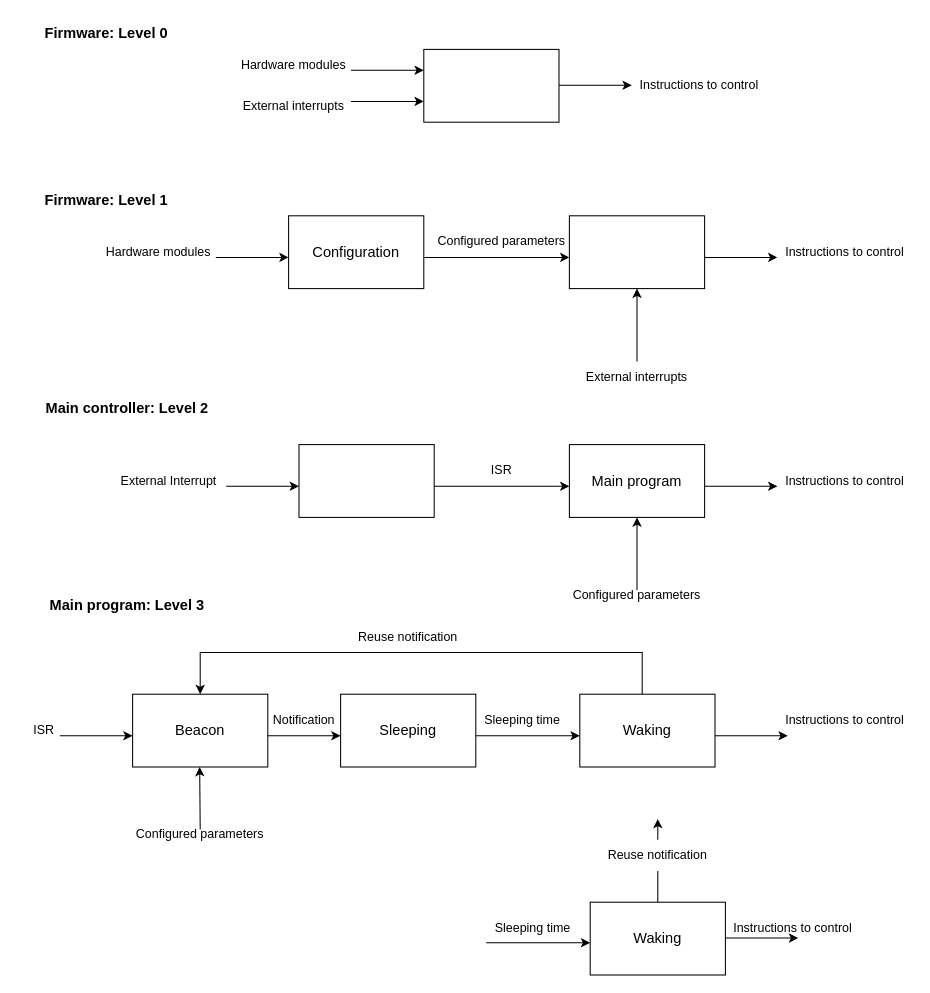
Image size: 930x993. Some labels were removed from this diagram. The centre of each missing label's shape, as x and y in pixels:
Firmware: point (491, 85)
Interrupt Handler: point (366, 480)
Main controller: point (636, 252)
